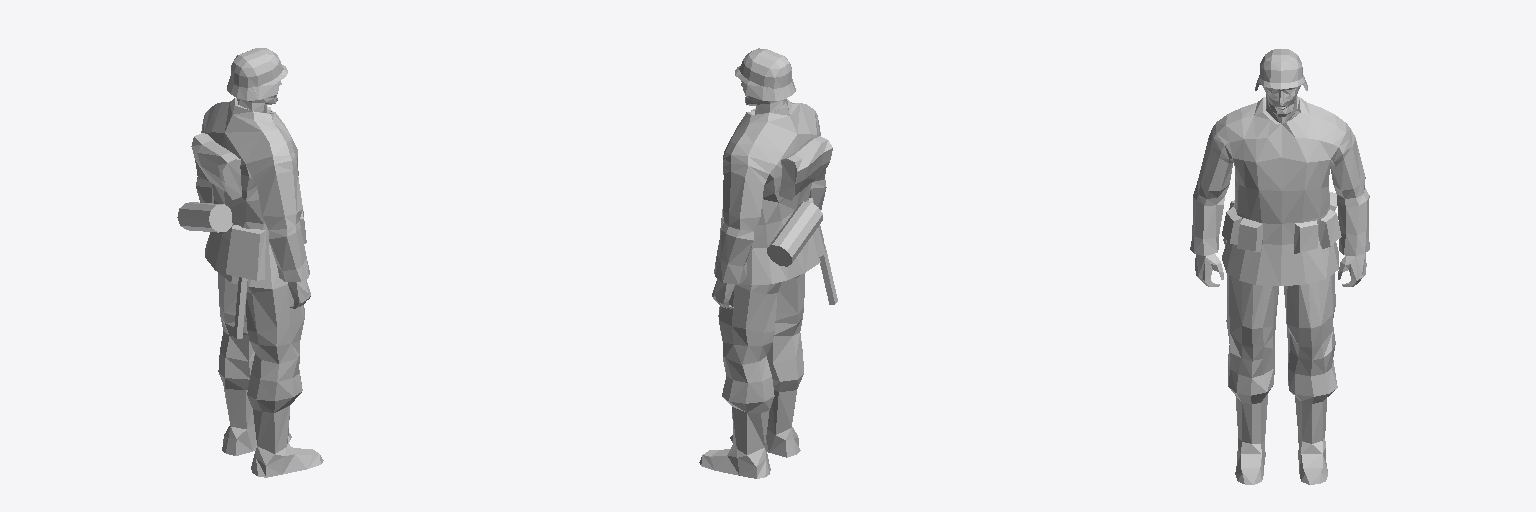
Rendered from germanrifleman_rig_tex.obj.
The picture shows the model from 3 angles: view 1: azimuth 30°, elevation 25°; view 2: azimuth 150°, elevation 25°; view 3: azimuth 270°, elevation 25°; orthographic projection.
Visible parts, largest first — view 1: skin.003, german_03.000_german_03.002; view 2: skin.003, german_03.000_german_03.002; view 3: skin.003, german_03.000_german_03.002.
Part boxes in pixels (x1,y1,x2,y2): skin.003: (177, 82, 323, 477); german_03.000_german_03.002: (227, 48, 287, 100); skin.003: (699, 83, 837, 478); german_03.000_german_03.002: (735, 48, 795, 100); skin.003: (1190, 85, 1369, 484); german_03.000_german_03.002: (1255, 49, 1307, 90).
Size of the model in its own units: 0.5202 by 1.98 by 0.7896.